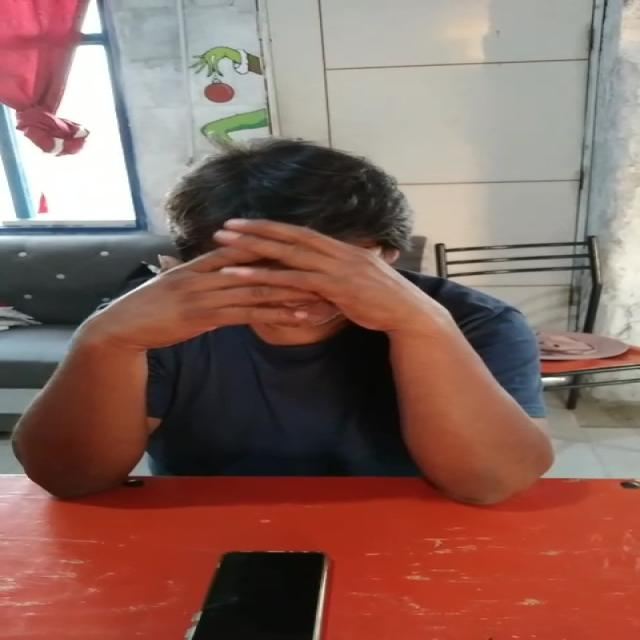7_mano_rostro: (200, 230, 391, 376)
